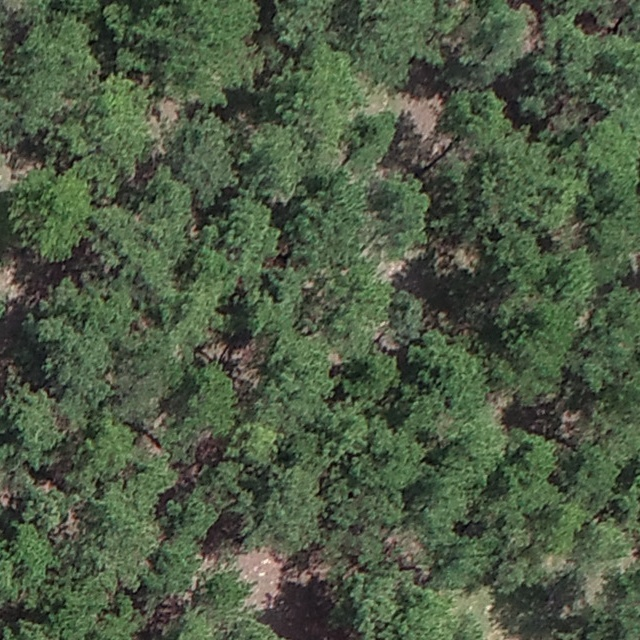unhealthy: (237, 546, 287, 609), (49, 505, 89, 546)
